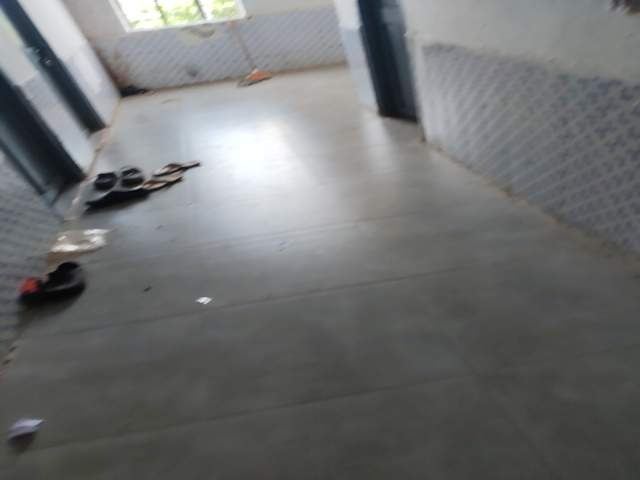pothole: (99, 310, 277, 480)
